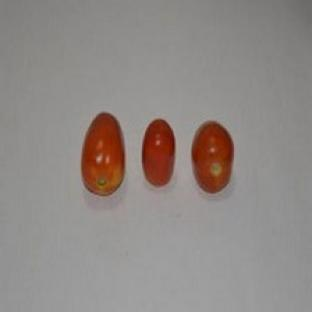Tomato: (81, 113, 125, 194), (193, 122, 233, 193), (143, 119, 175, 186)
